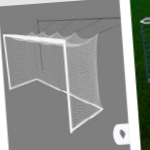goals: (2, 29, 105, 134)
